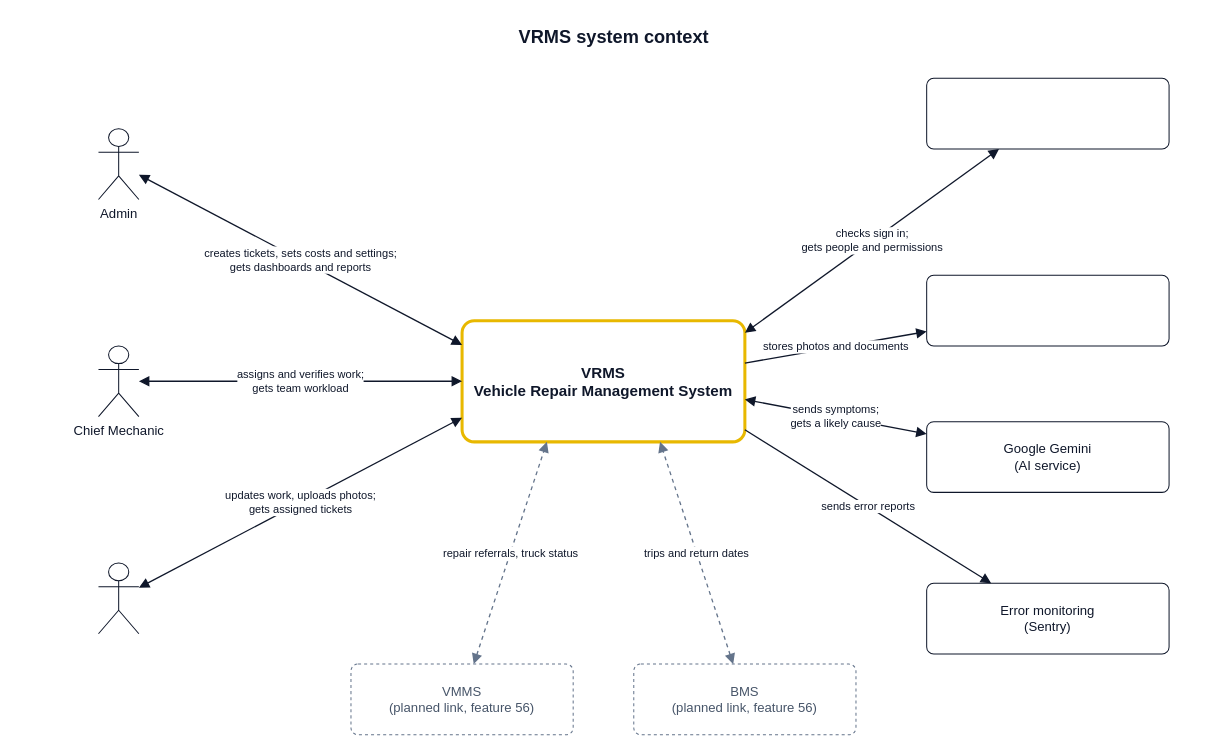
Image size: 1226x752. Some labels were removed from this diagram. Each missing label, with the centre of its shape:
File storage (Azure Blob Storage): (1047,310)
Mechanic: (118,598)
WeLinc sign in service and portal (welinc-auth): (1047,113)
